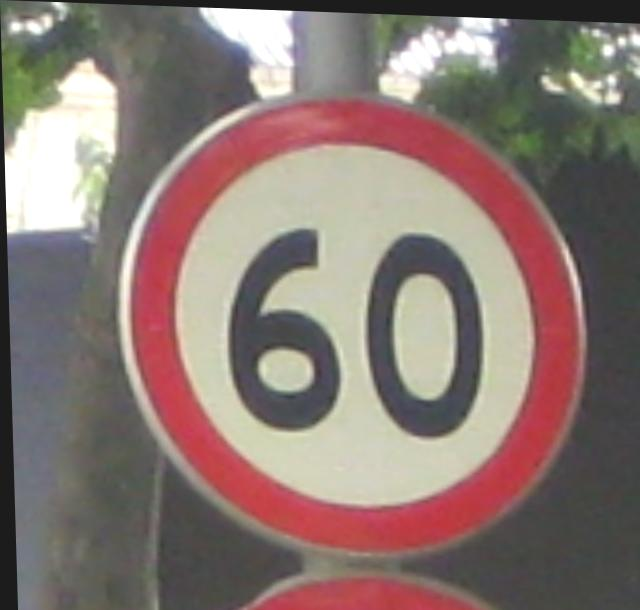limit60: (100, 74, 604, 570)
